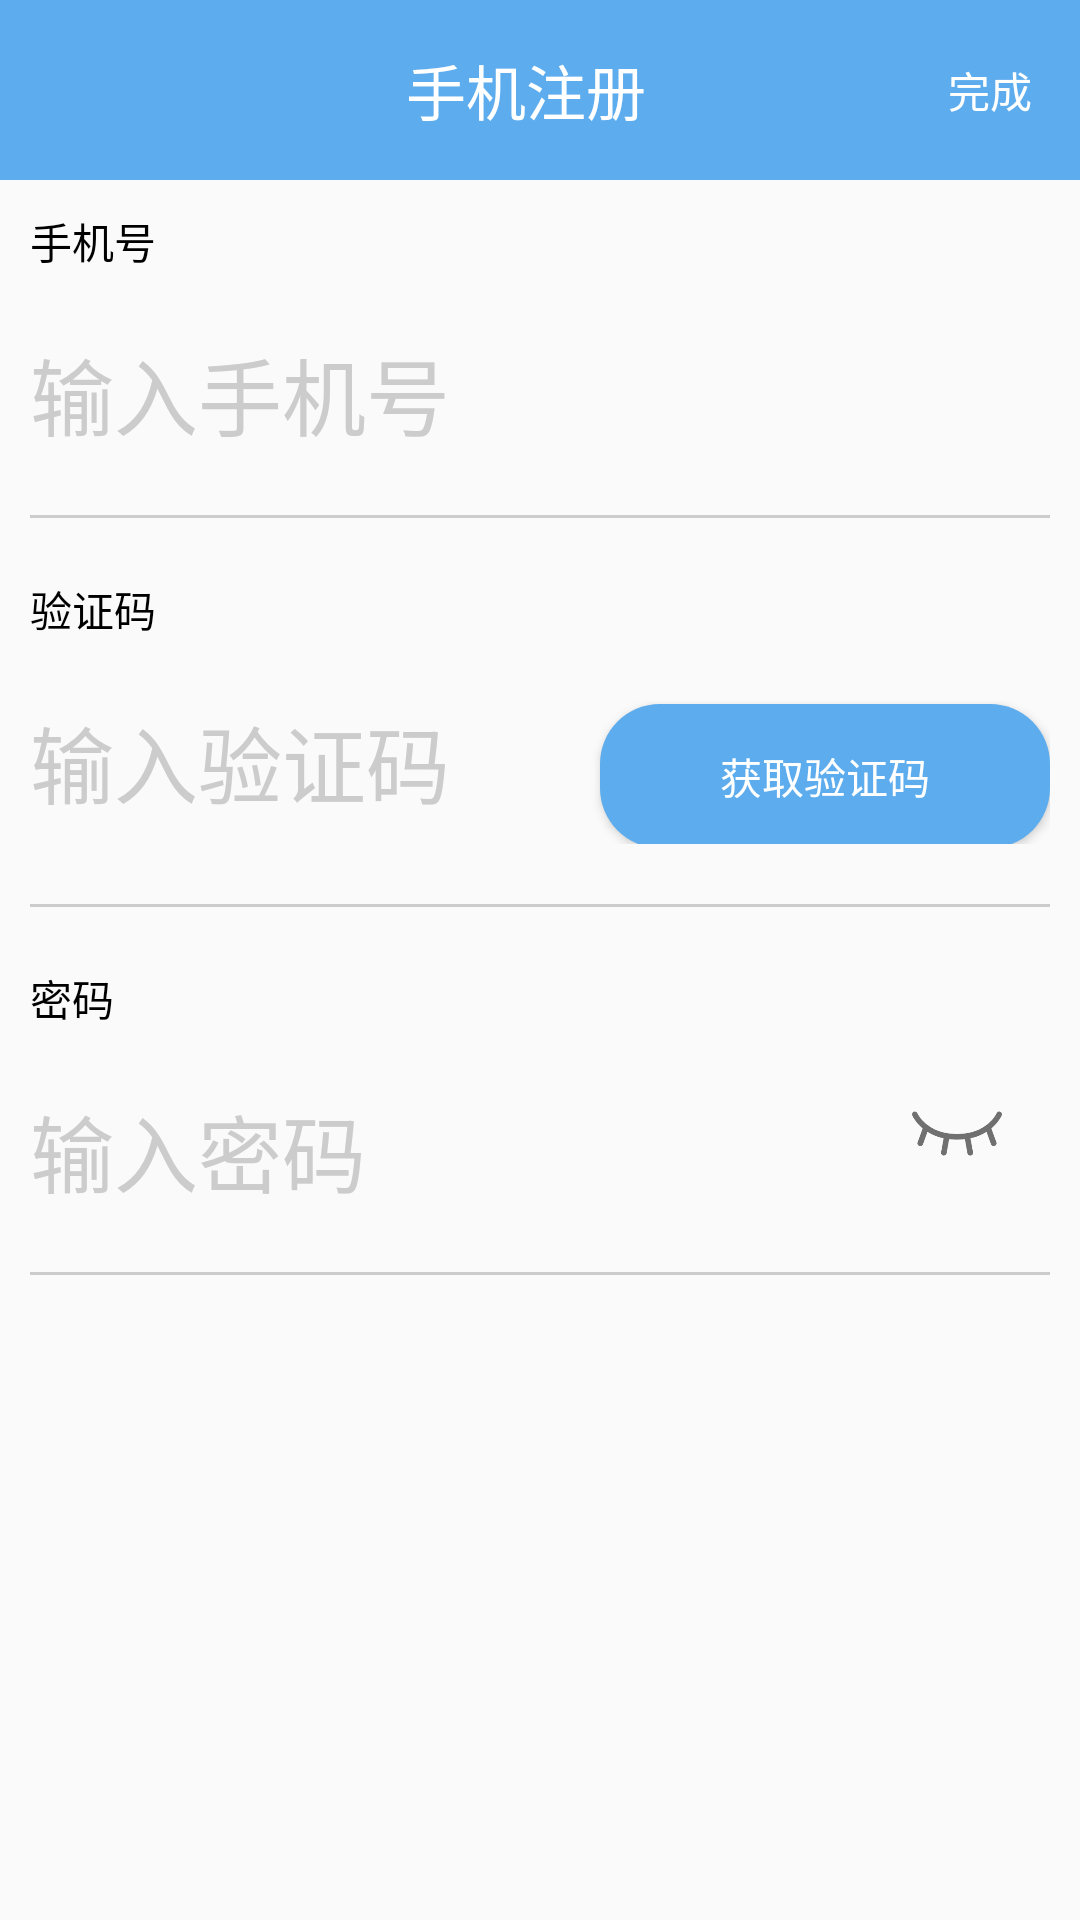

Locate icon controls on the screen. Image size 1080*1920, boxes as (x1, y1, x2, y2).
closeeye: (912, 1111, 1002, 1156)
